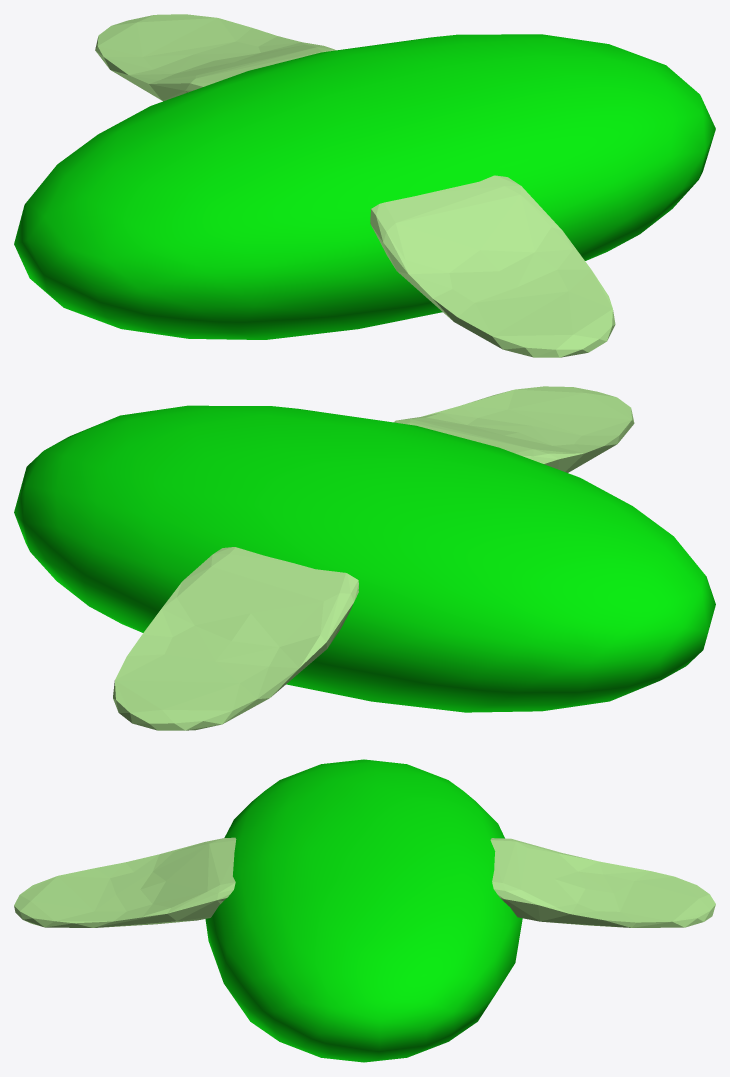
The model's file is spaceship_less.gltf.
3 views of the same model, one above another, from view 1: azimuth 30°, elevation 25°; view 2: azimuth 150°, elevation 25°; view 3: azimuth 270°, elevation 25° (orthographic). The views are drawn at different scales.
Visible parts, largest first — view 1: Cube.001; view 2: Cube.001; view 3: Cube.001.
Boxes of the visible parts, x1,y1,x2,y2 form: Cube.001: (14,14,715,357); Cube.001: (14,386,715,730); Cube.001: (14,759,715,1062).
Size of the model in its own units: 15.94 by 4.61 by 18.77.
